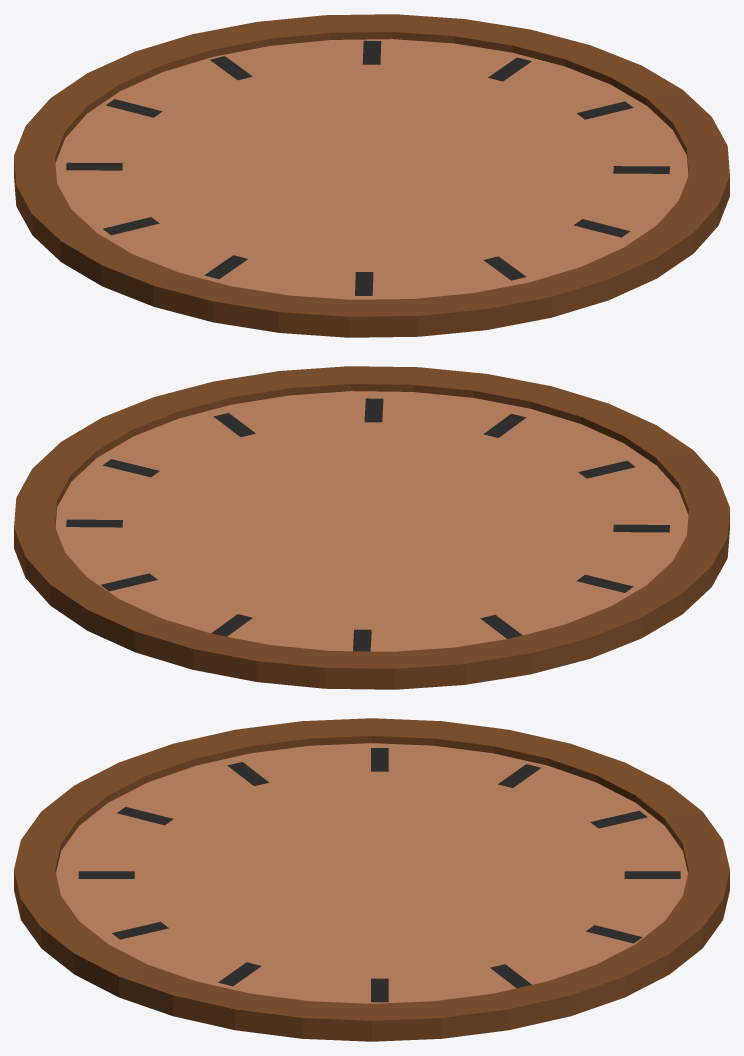
File: Klok.fbx
3 renders of one model, top to bottom at view 1: azimuth 30°, elevation 25°; view 2: azimuth 150°, elevation 25°; view 3: azimuth 270°, elevation 25°, orthographic.
Parts seen in each view (by area): view 1: Klok; view 2: Klok; view 3: Klok.
Part boxes in pixels (<box>): Klok: <box>14,14,729,337</box>; Klok: <box>14,366,729,689</box>; Klok: <box>14,718,729,1041</box>.
Size of the model in its own units: 3304 by 107 by 3304.
